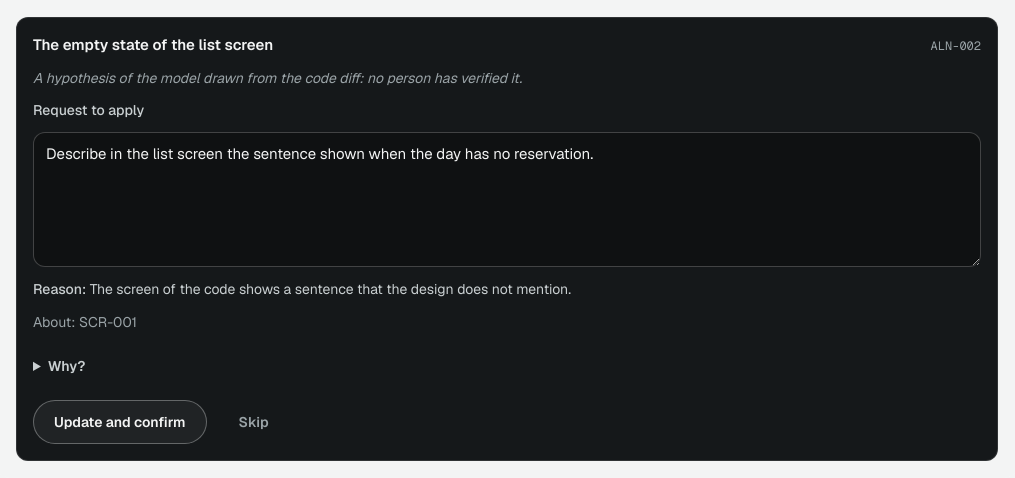
Test: AlignmentProposalsNotice › skips a proposal without a reason and says so in en
Step 1. Click the button with test id "alignment-proposal-skip" → {"x": 254, "y": 422}, box [219,400,289,444]
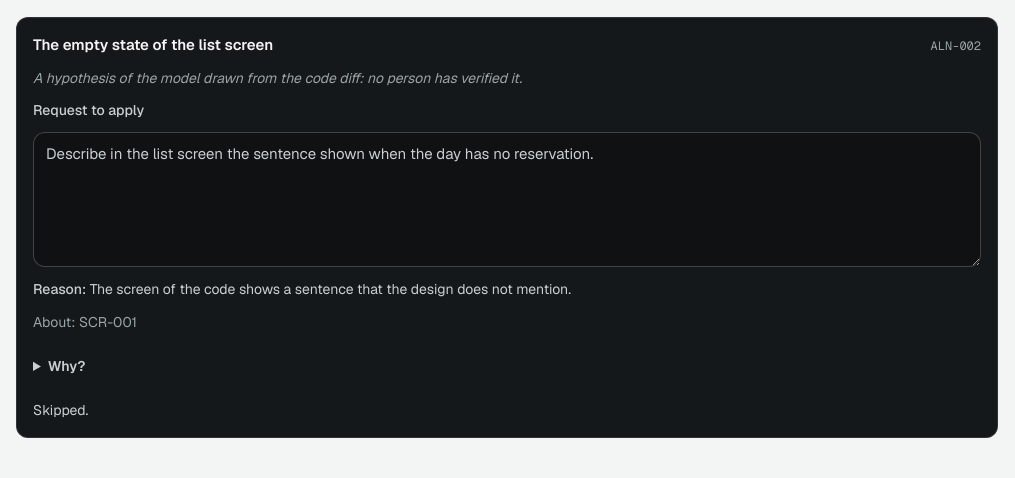
Now the message with test id "alignment-proposal-state" reads "Skipped.", box [33,400,88,418]
Now the text box with test id "alignment-proposal-text" is disabled, box [33,132,981,266]
